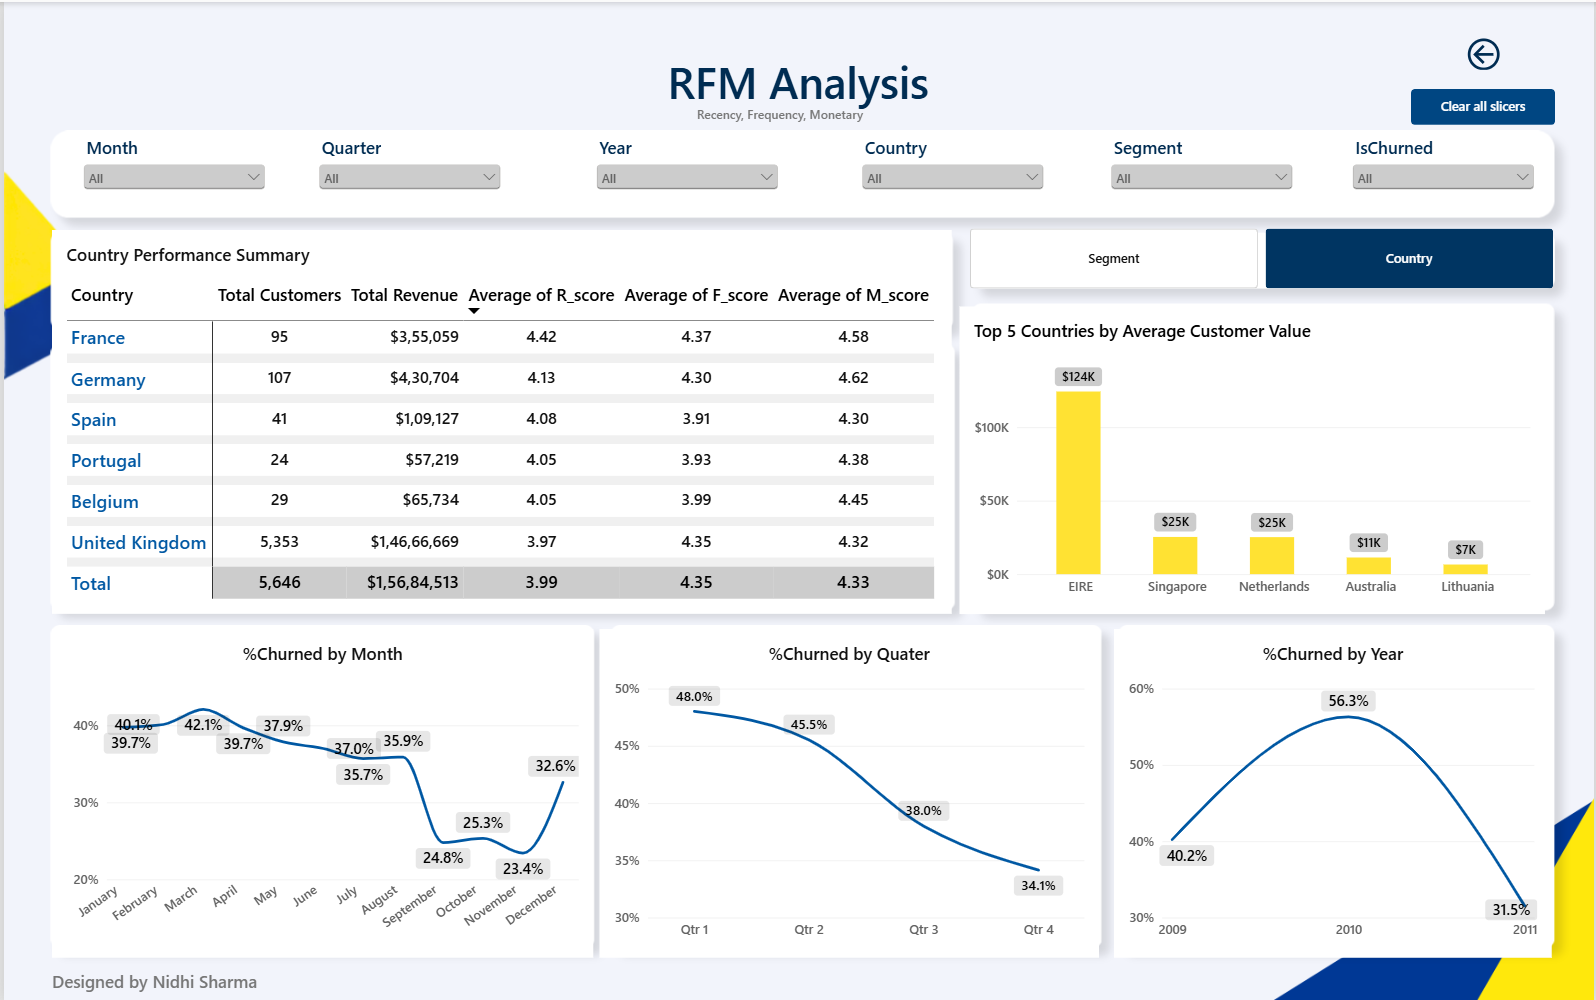

The dashboard page shown, as its layout file describes it:
{"tool":"powerbi","page":{"name":"RFM Analysis","canvas":[1750,1100],"ordinal":2},"visuals":[{"type":"slicer","fields":{"Values":["EcommerceDashboardData.InvoiceDate.Variation.Date Hierarchy.Quarter"]},"box":[341.4,147.1,209.9,82.4],"z":0},{"type":"lineChart","title":"%Churned by Year","fields":{"Category":["EcommerceDashboardData.InvoiceDate.Variation.Date Hierarchy.Year"],"Y":["EcommerceDashboardData.Churned %"]},"box":[1222.9,690.5,482.3,361.7],"z":0,"group":"g1"},{"type":"slicer","fields":{"Values":["EcommerceDashboardData.InvoiceDate.Variation.Date Hierarchy.Year"]},"box":[647.4,147.1,209.9,82.4],"z":1000},{"type":"lineChart","title":"%Churned by Month","fields":{"Category":["EcommerceDashboardData.InvoiceDate.Variation.Date Hierarchy.Month"],"Y":["EcommerceDashboardData.Churned %"]},"box":[52.7,690.5,596.2,361.7],"z":1000,"group":"g1"},{"type":"slicer","fields":{"Values":["EcommerceDashboardData.Country","EcommerceDashboardData.InvoiceDate","EcommerceDashboardData.InvoiceDate.Variation.Date Hierarchy.Month"]},"box":[939.7,147.1,209.9,82.4],"z":2000},{"type":"lineChart","title":"%Churned by Quater","fields":{"Category":["EcommerceDashboardData.InvoiceDate.Variation.Date Hierarchy.Quarter"],"Y":["EcommerceDashboardData.Churned %"]},"box":[656.2,690.5,550,361.7],"z":2000,"group":"g1"},{"type":"slicer","fields":{"Values":["EcommerceDashboardData.Segment"]},"box":[1214.4,147.1,209.9,82.4],"z":3000},{"type":"pivotTable","title":"Country Performance Summary","fields":{"Rows":["EcommerceDashboardData.Country"],"Values":["EcommerceDashboardData.Total Customers","EcommerceDashboardData.Total Revenue","Avg(EcommerceDashboardData.R_score)","Avg(EcommerceDashboardData.F_score)","Avg(EcommerceDashboardData.M_score)"]},"box":[52.7,250.4,990.9,422.5],"z":3000,"group":"g1"},{"type":"slicer","fields":{"Values":["EcommerceDashboardData.IsChurned"]},"box":[1479.3,147.1,209.9,82.4],"z":4000},{"type":"clusteredColumnChart","title":"Top 5 Countries by Average Customer Value","fields":{"Category":["EcommerceDashboardData.Country"],"Y":["EcommerceDashboardData.AVG CUSTOMER VALUE"]},"box":[1051.6,334.7,644.8,338.7],"z":4000,"group":"g1"},{"type":"slicer","fields":{"Values":["EcommerceDashboardData.InvoiceDate.Variation.Date Hierarchy.Month"]},"box":[82.4,147.1,209.9,82.4],"z":5000},{"type":"bookmarkNavigator","box":[1064.2,249.9,642.5,66.1],"z":6000},{"type":"textbox","box":[52.9,1065.3,645.8,34.7],"z":7000},{"type":"textbox","box":[591.7,54.5,566.5,80.9],"z":9000},{"type":"actionButton","box":[1579,34.7,100,40],"z":10000},{"type":"actionButton","box":[1549.2,95.8,158.6,39.6],"z":11000},{"type":"group","id":"g1","title":"Country","box":[52.7,250.4,1652.5,801.8],"z":13000},{"type":"textbox","box":[763,114.2,187,33.1],"z":13001}]}

Visuals, with their boxes in screenshot pixels (x1, y1, x2, y2), scaled from the page's 1750x1100 canvas onto the 1596x1000 screenshot:
slicer - EcommerceDashboardData.InvoiceDate.Variation.Date Hierarchy.Quarter: l=311, t=134, r=503, b=209
"%Churned by Year" lineChart: l=1115, t=628, r=1555, b=957
slicer - EcommerceDashboardData.InvoiceDate.Variation.Date Hierarchy.Year: l=590, t=134, r=782, b=209
"%Churned by Month" lineChart: l=48, t=628, r=592, b=957
slicer - EcommerceDashboardData.Country x EcommerceDashboardData.InvoiceDate: l=857, t=134, r=1048, b=209
"%Churned by Quater" lineChart: l=598, t=628, r=1100, b=957
slicer - EcommerceDashboardData.Segment: l=1108, t=134, r=1299, b=209
"Country Performance Summary" pivotTable: l=48, t=228, r=952, b=612
slicer - EcommerceDashboardData.IsChurned: l=1349, t=134, r=1541, b=209
"Top 5 Countries by Average Customer Value" clusteredColumnChart: l=959, t=304, r=1547, b=612
slicer - EcommerceDashboardData.InvoiceDate.Variation.Date Hierarchy.Month: l=75, t=134, r=267, b=209
bookmarkNavigator: l=971, t=227, r=1557, b=287
textbox: l=48, t=968, r=637, b=999
textbox: l=540, t=50, r=1056, b=123
actionButton: l=1440, t=32, r=1531, b=68
actionButton: l=1413, t=87, r=1558, b=123
"Country" group: l=48, t=228, r=1555, b=957
textbox: l=696, t=104, r=866, b=134
